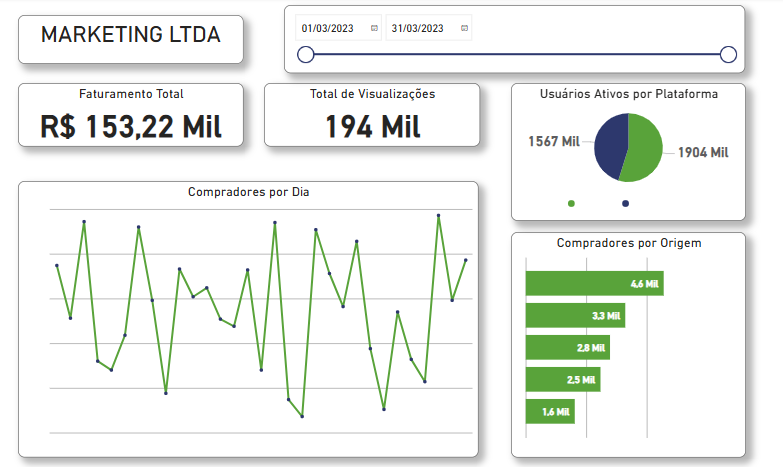

The dashboard page shown, as its layout file describes it:
{"tool":"powerbi","page":{"name":"Relatório 1","canvas":[1280,720],"ordinal":0},"visuals":[{"type":"textbox","box":[39.3,26.2,336.8,72.6],"z":6000},{"type":"card","title":"Faturamento Total","fields":{"Values":["Sum(Fact_Data.Receita Total)"]},"box":[39.3,128.5,336.8,95.2],"z":10000},{"type":"card","title":"Total de Visualizações","fields":{"Values":["Sum(Fact_Data.Visualizações na Página)"]},"box":[405.8,128.5,322.5,95.2],"z":13000},{"type":"lineChart","fields":{"Category":["DIM_Dia.Dia.Variation.Hierarquia de datas.Dia"],"Y":["Sum(Fact_Data.Número de Compradores)"]},"box":[39.3,274.9,687.9,413],"z":16000},{"type":"slicer","fields":{"Values":["DIM_Dia.Dia"]},"box":[436,11.9,689.1,102.3],"z":19000},{"type":"barChart","fields":{"Category":["Dim_Origem.Origem"],"Y":["Sum(Fact_Usuários.Novos Usuários)"]},"box":[774.7,351.1,351.1,336.8],"z":22000},{"type":"pieChart","fields":{"Y":["Sum(Fact_Data.Usuários Ativos)"],"Category":["DIM_Plataforma.Plataforma Utilizada"]},"box":[774.7,128.5,351.1,205.9],"z":24000}]}

Visuals, with their boxes on the page's 1280x720 design canvas (x1, y1, x2, y2). These are canvas units, not pixel positions in the 783x467 screenshot, which may show the page scaled, cropped or inside an application window:
textbox: {"left": 39, "top": 26, "right": 376, "bottom": 99}
"Faturamento Total" card: {"left": 39, "top": 128, "right": 376, "bottom": 224}
"Total de Visualizações" card: {"left": 406, "top": 128, "right": 728, "bottom": 224}
lineChart - DIM_Dia.Dia.Variation.Hierarquia de datas.Dia x Sum(Fact_Data.Número de Compradores): {"left": 39, "top": 275, "right": 727, "bottom": 688}
slicer - DIM_Dia.Dia: {"left": 436, "top": 12, "right": 1125, "bottom": 114}
barChart - Dim_Origem.Origem x Sum(Fact_Usuários.Novos Usuários): {"left": 775, "top": 351, "right": 1126, "bottom": 688}
pieChart - Sum(Fact_Data.Usuários Ativos) x DIM_Plataforma.Plataforma Utilizada: {"left": 775, "top": 128, "right": 1126, "bottom": 334}
